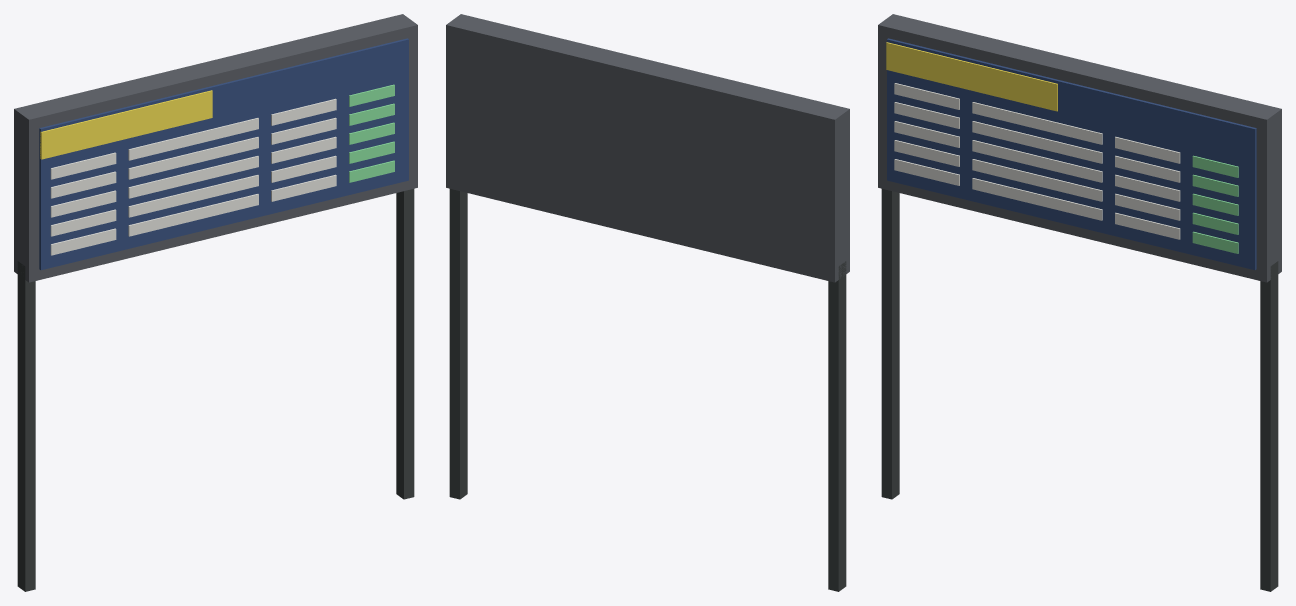
File: departures.glb
3 views of the same model, side by side, from view 1: azimuth 30°, elevation 25°; view 2: azimuth 150°, elevation 25°; view 3: azimuth 330°, elevation 25° (orthographic).
Parts seen in each view (by area): view 1: departures; view 2: departures; view 3: departures.
Part boxes in pixels (x1,y1,x2,y2): departures: (14, 14, 417, 591); departures: (446, 14, 849, 591); departures: (878, 14, 1281, 591).
Size of the model in its own units: 3 by 3.5 by 0.24.
